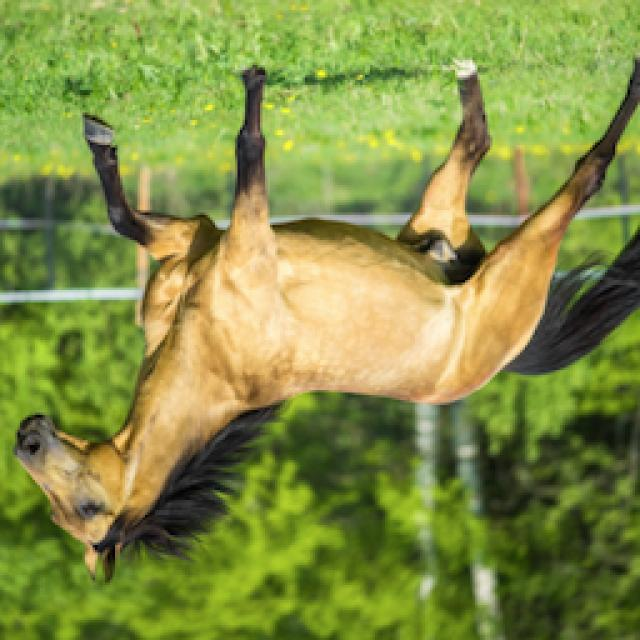Horse: (8, 53, 640, 588)
